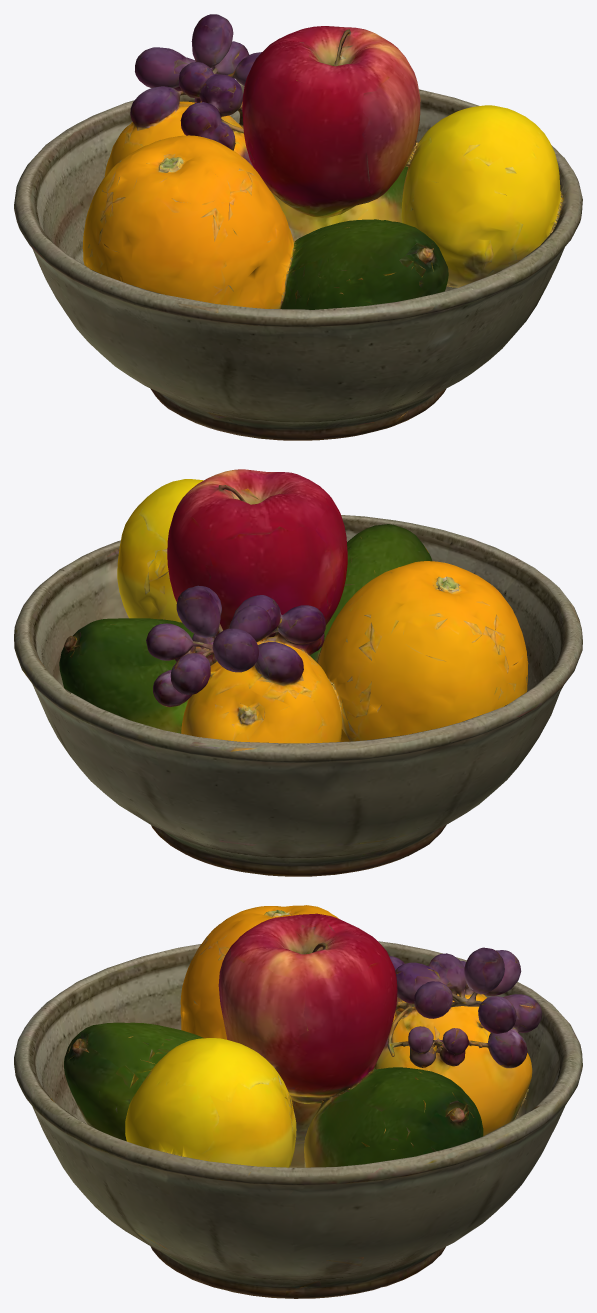
Rendered from bowl-fruit.glb.
The picture shows the model from 3 angles, top to bottom: view 1: azimuth 30°, elevation 25°; view 2: azimuth 150°, elevation 25°; view 3: azimuth 270°, elevation 25°; orthographic projection.
Visible parts, largest first — view 1: Mesh_0; view 2: Mesh_0; view 3: Mesh_0.
Part boxes in pixels (bbox=[...]): Mesh_0: bbox=[14, 14, 582, 440]; Mesh_0: bbox=[14, 469, 582, 876]; Mesh_0: bbox=[14, 905, 582, 1298].
Bounding box in the file's own units: 1.9 × 1.19 × 1.9.
1 material, 1 textured.
